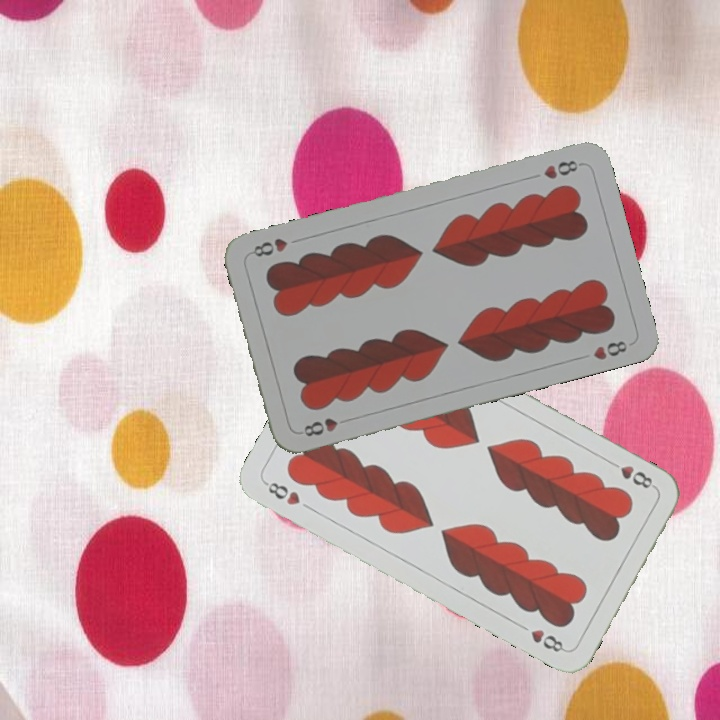H8: (604, 456, 658, 491), (300, 413, 354, 439), (260, 478, 303, 508), (539, 156, 585, 182)
